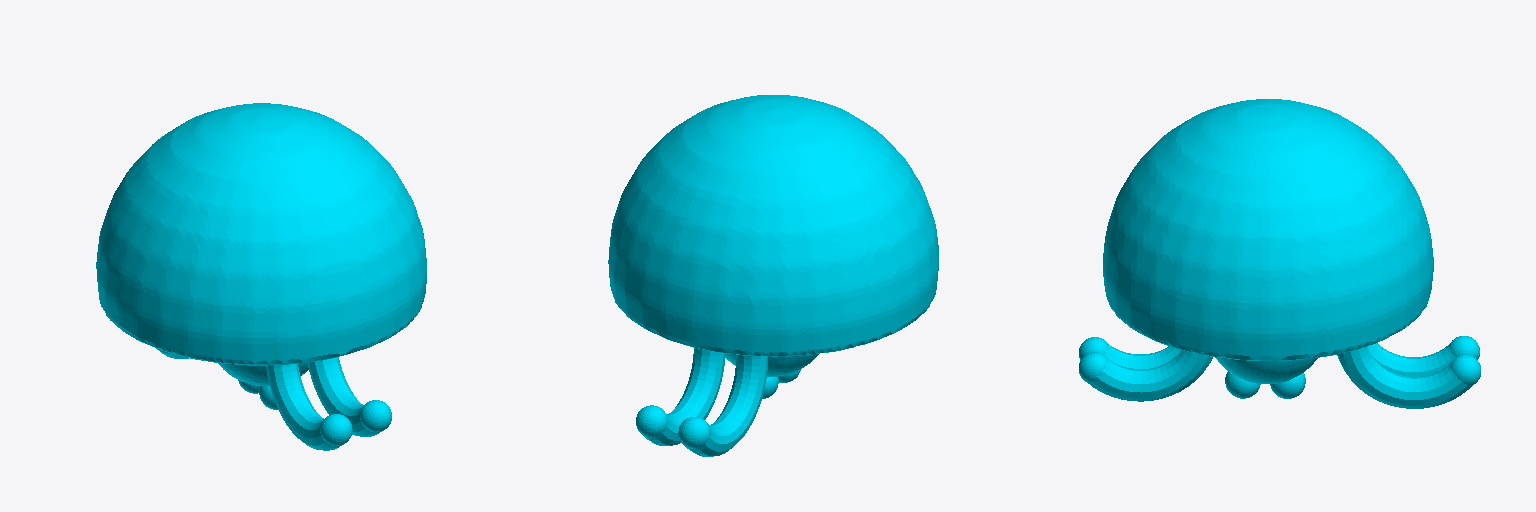
The picture shows the model from 3 angles: view 1: azimuth 30°, elevation 25°; view 2: azimuth 150°, elevation 25°; view 3: azimuth 270°, elevation 25°; orthographic projection.
Parts seen in each view (by area): view 1: 球; view 2: 球; view 3: 球.
Boxes of the visible parts, <box> form: 球: <box>96,103,426,450</box>; 球: <box>608,95,938,456</box>; 球: <box>1079,99,1480,408</box>.
Bounding box in the file's own units: 5.17 × 4.87 × 6.28.
Materials: 6 (2 with a texture image).